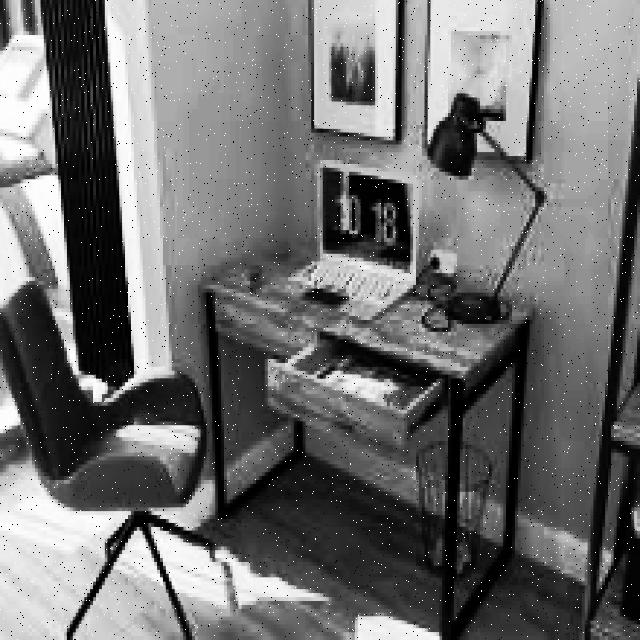book: (0, 277, 239, 640)
table: (198, 234, 532, 640)
